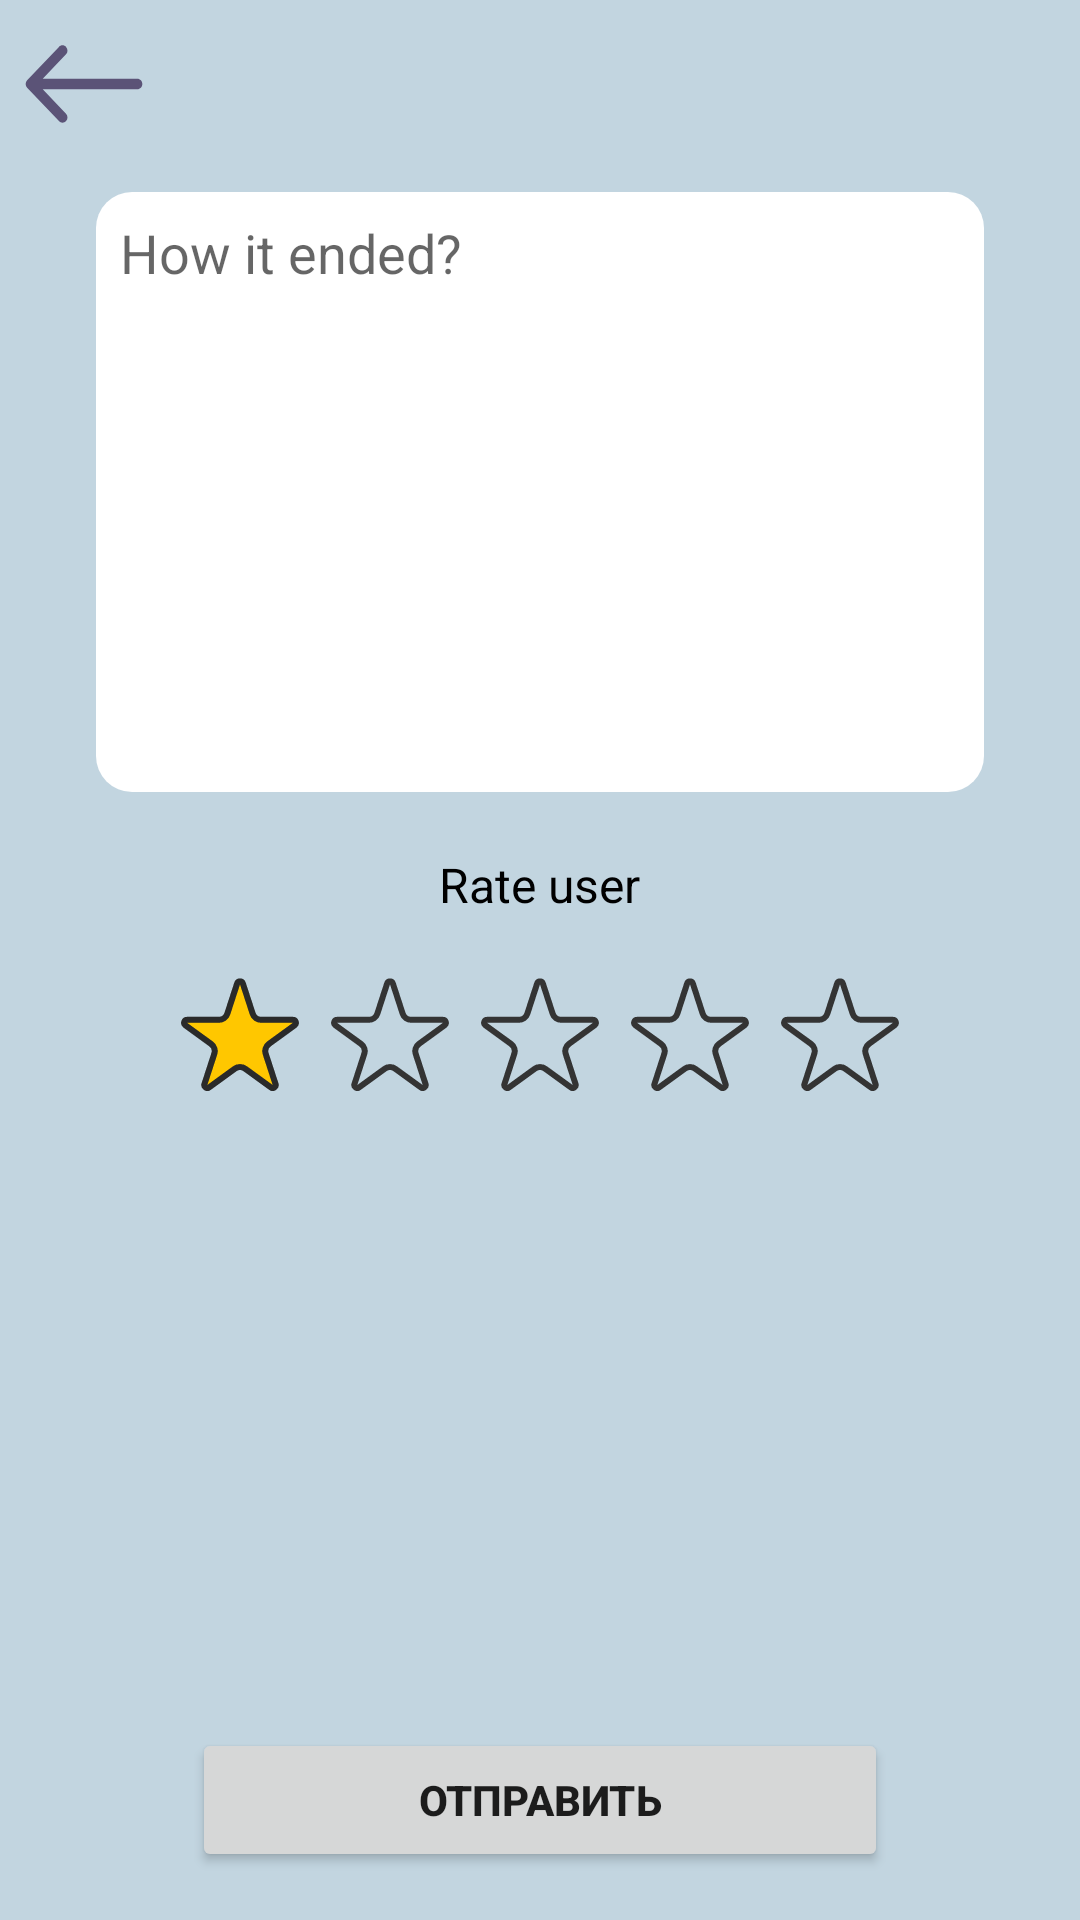

Screen size 1080 × 1920. Icon name, then its center in pixels as [x,y]:
star: [240,1034]
star stroke: [390,1034], [540,1034], [690,1034], [840,1034]
